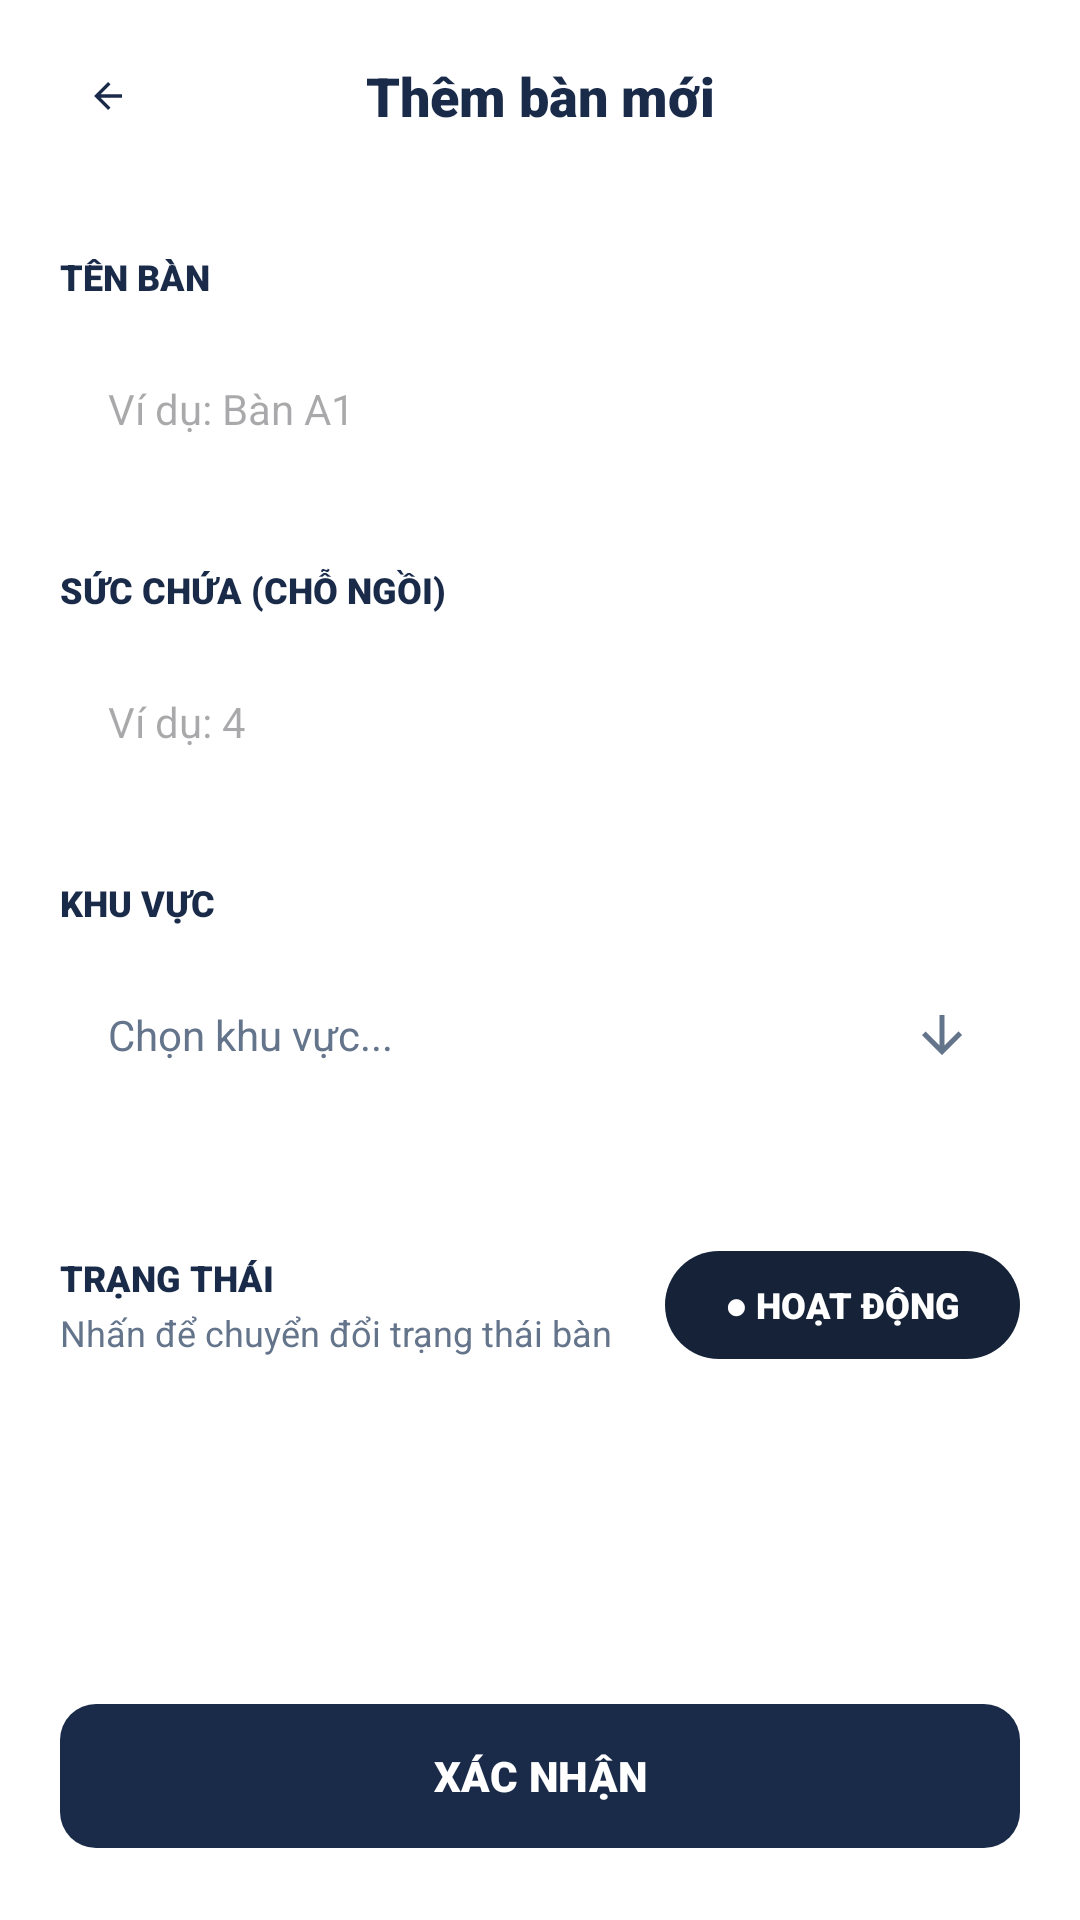

Icon bounding boxes for this 1080w x 1920h phone screenshot, format Rect(x1, y1, x2, y2):
Quay lại: Rect(94, 82, 122, 110)
